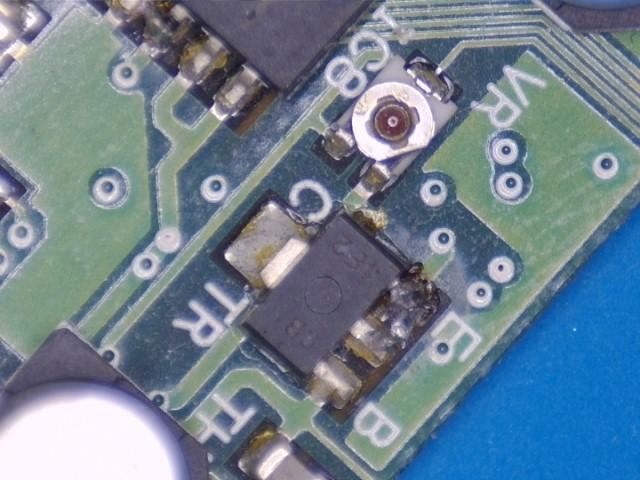Short_circuit: (349, 280, 442, 360)
